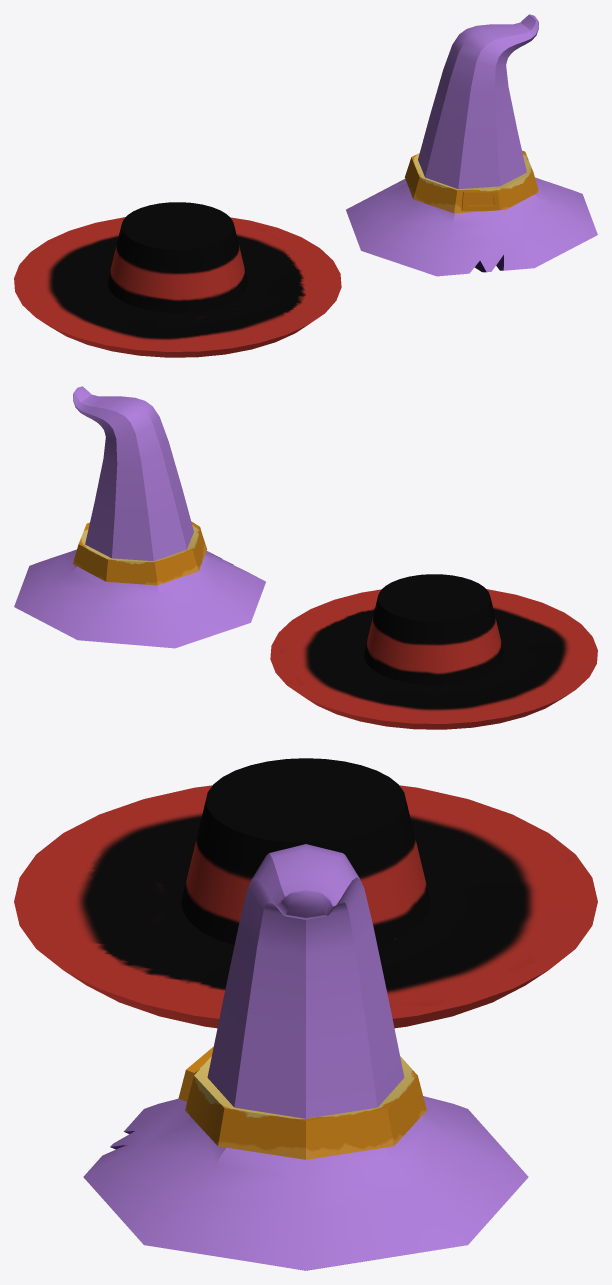
Rendered from Hats.fbx.
The picture shows the model from 3 angles, top to bottom: view 1: azimuth 30°, elevation 25°; view 2: azimuth 150°, elevation 25°; view 3: azimuth 270°, elevation 25°; orthographic projection. The views are drawn at different scales.
Parts seen in each view (by area): view 1: Hat1, Hat2; view 2: Hat1, Hat2; view 3: Hat2, Hat1.
Part boxes in pixels (x1,y1,x2,y2): Hat1: (14,202,341,357); Hat2: (346,14,597,276); Hat1: (270,574,597,729); Hat2: (14,386,265,648); Hat2: (83,844,528,1270); Hat1: (14,758,597,1028).
Size of the model in its own units: 139 by 47.74 by 72.27.
Materials: 2 (2 with a texture image).
